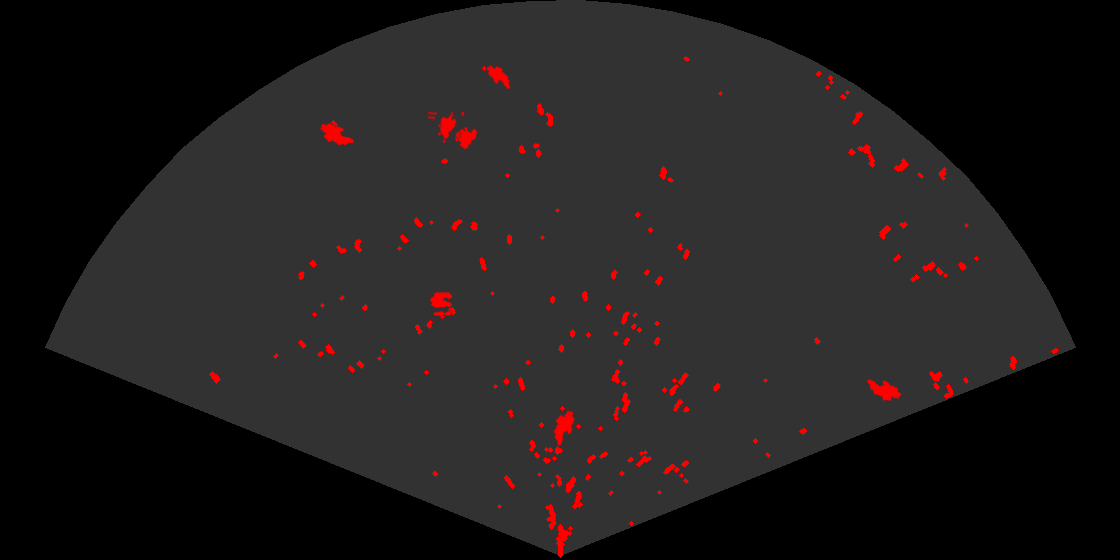AUV: (318, 121, 356, 147), (865, 378, 903, 403), (552, 409, 576, 448), (485, 64, 512, 91)
ball: (429, 291, 454, 317)
cage: (428, 112, 479, 151)
